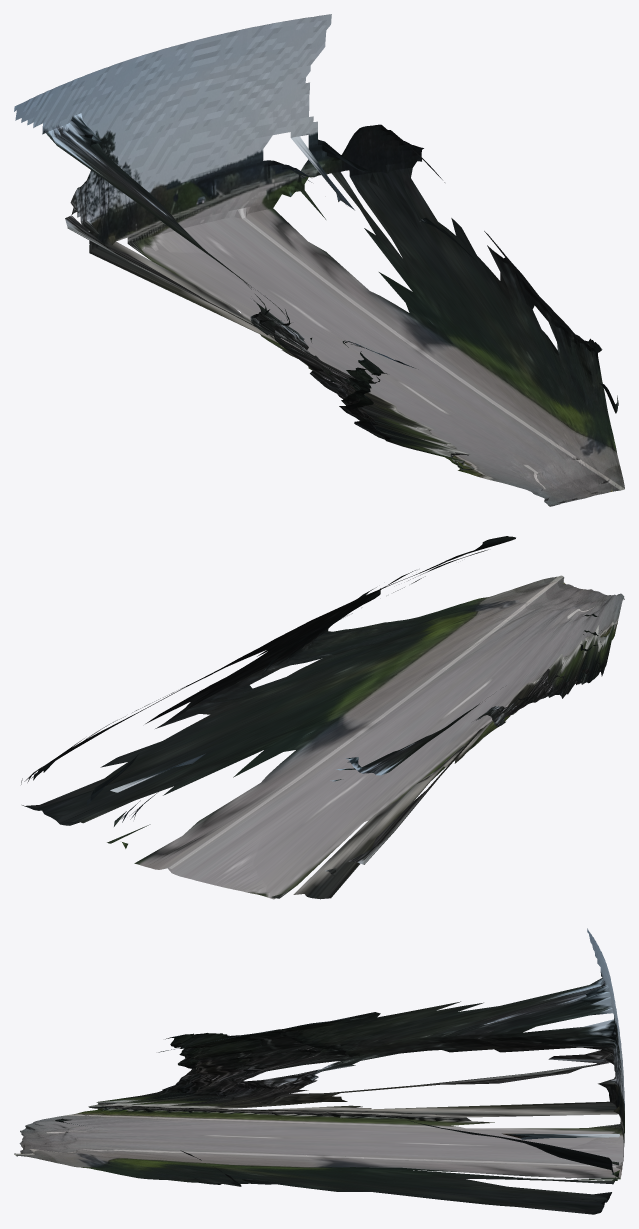
The picture shows the model from 3 angles, top to bottom: view 1: azimuth 30°, elevation 25°; view 2: azimuth 150°, elevation 25°; view 3: azimuth 270°, elevation 25°; orthographic projection. The views are drawn at different scales.
Visible parts, largest first — view 1: defaultobject; view 2: defaultobject; view 3: defaultobject.
Part boxes in pixels (bbox=[...]): defaultobject: bbox=[14, 14, 624, 506]; defaultobject: bbox=[21, 536, 624, 899]; defaultobject: bbox=[14, 928, 624, 1214].
Size of the model in its own units: 27.38 by 12.43 by 44.84.
1 material, 1 textured.
